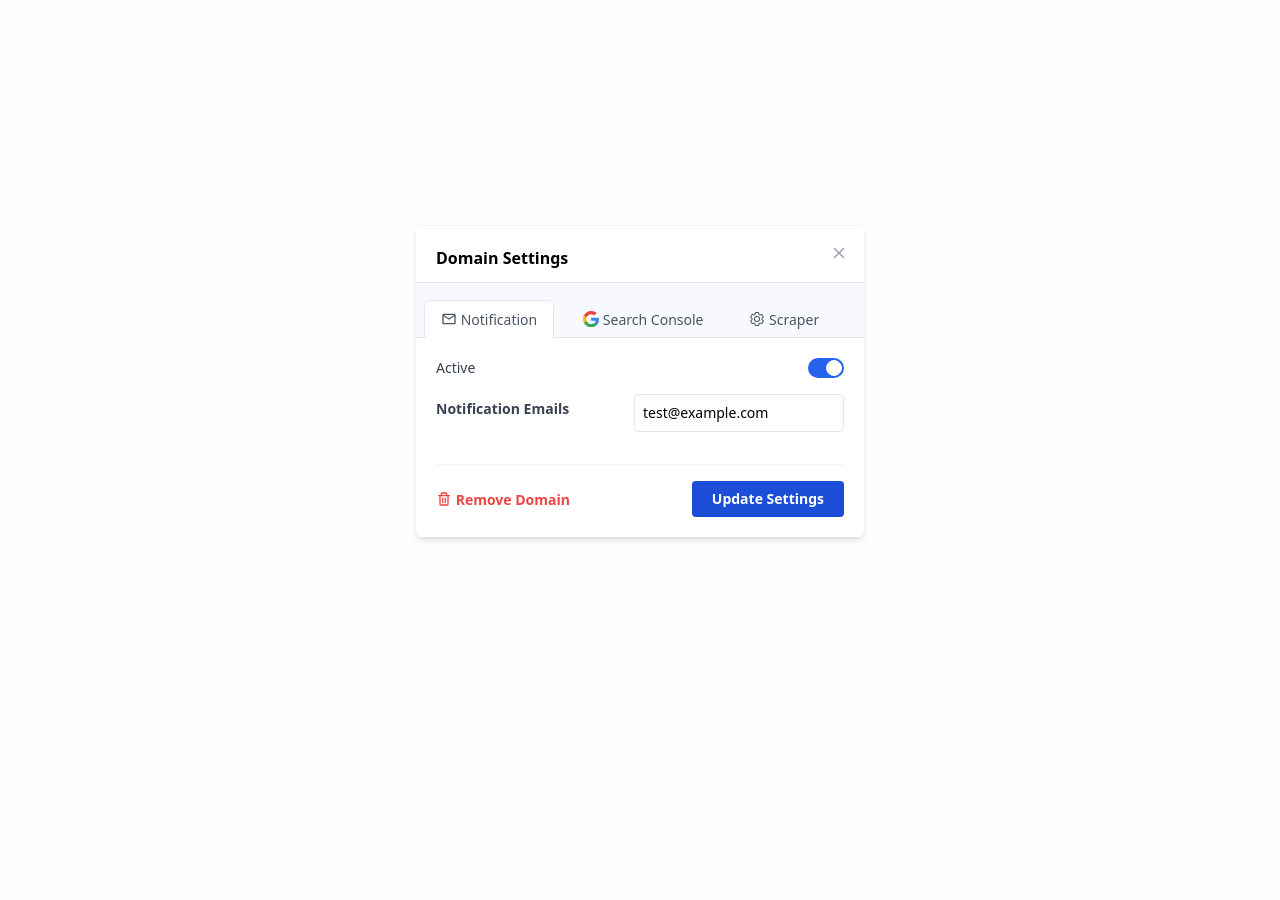
Test: DomainSettings Component › requires an API key when selecting a scraper override without a stored key
Click the list item "Scraper". click: (784, 320)
box: [750,310,819,329]
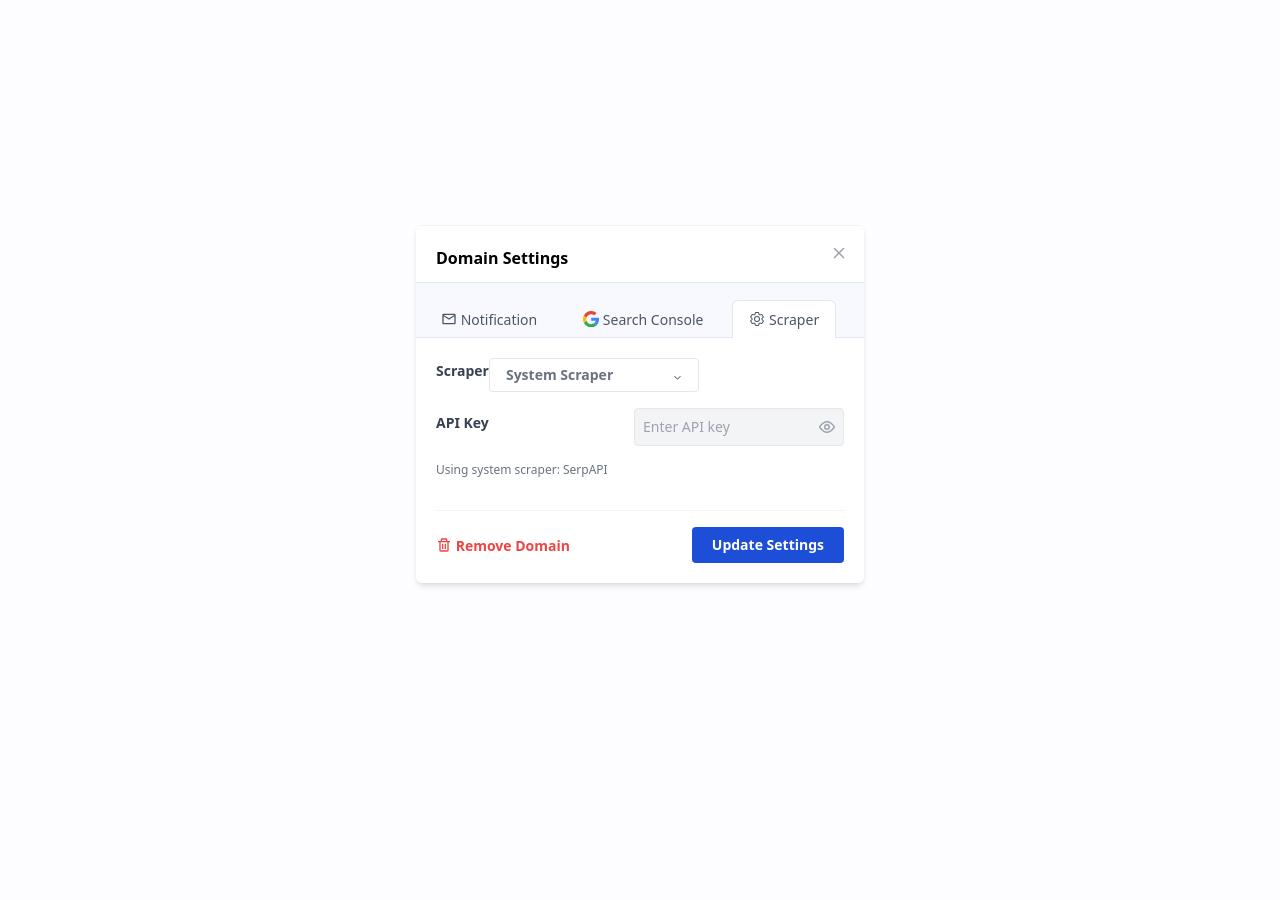
Click the text "System Scraper". click: (560, 375)
box: [506,365,613,384]
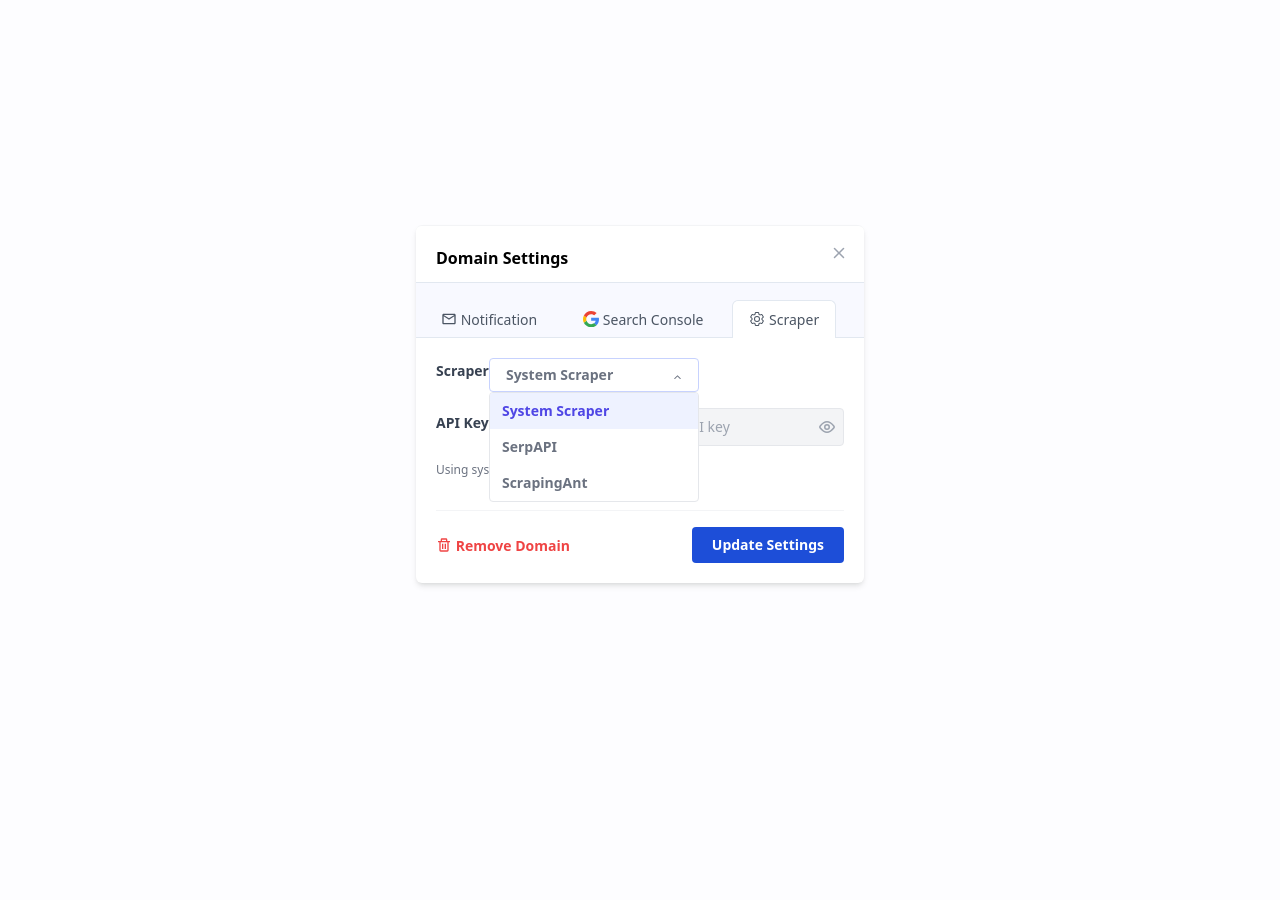
Click the list item "SerpAPI". click: (529, 447)
box: [502,437,557,456]
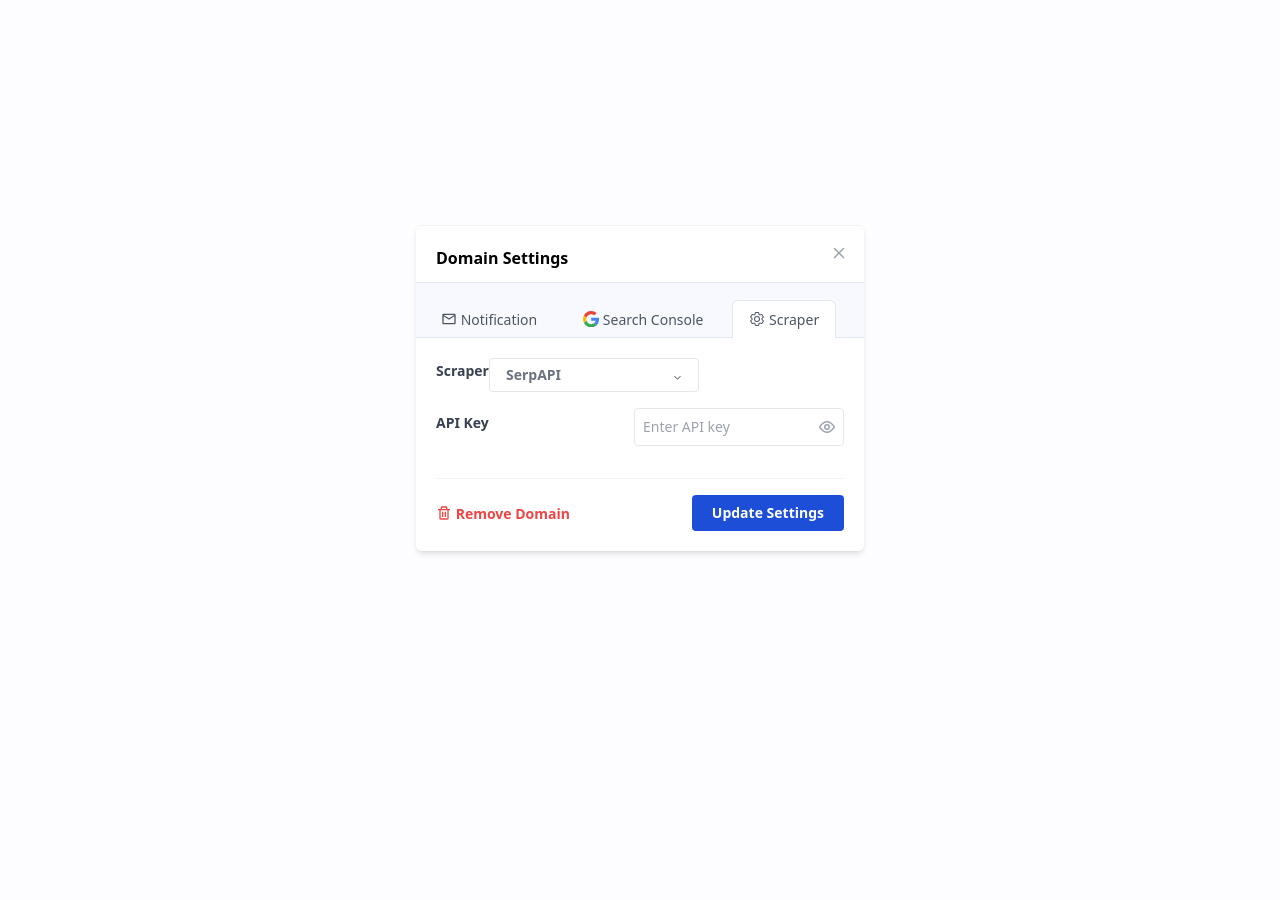
Click the button "Update Settings". click: (768, 513)
box: [692,495,844,531]
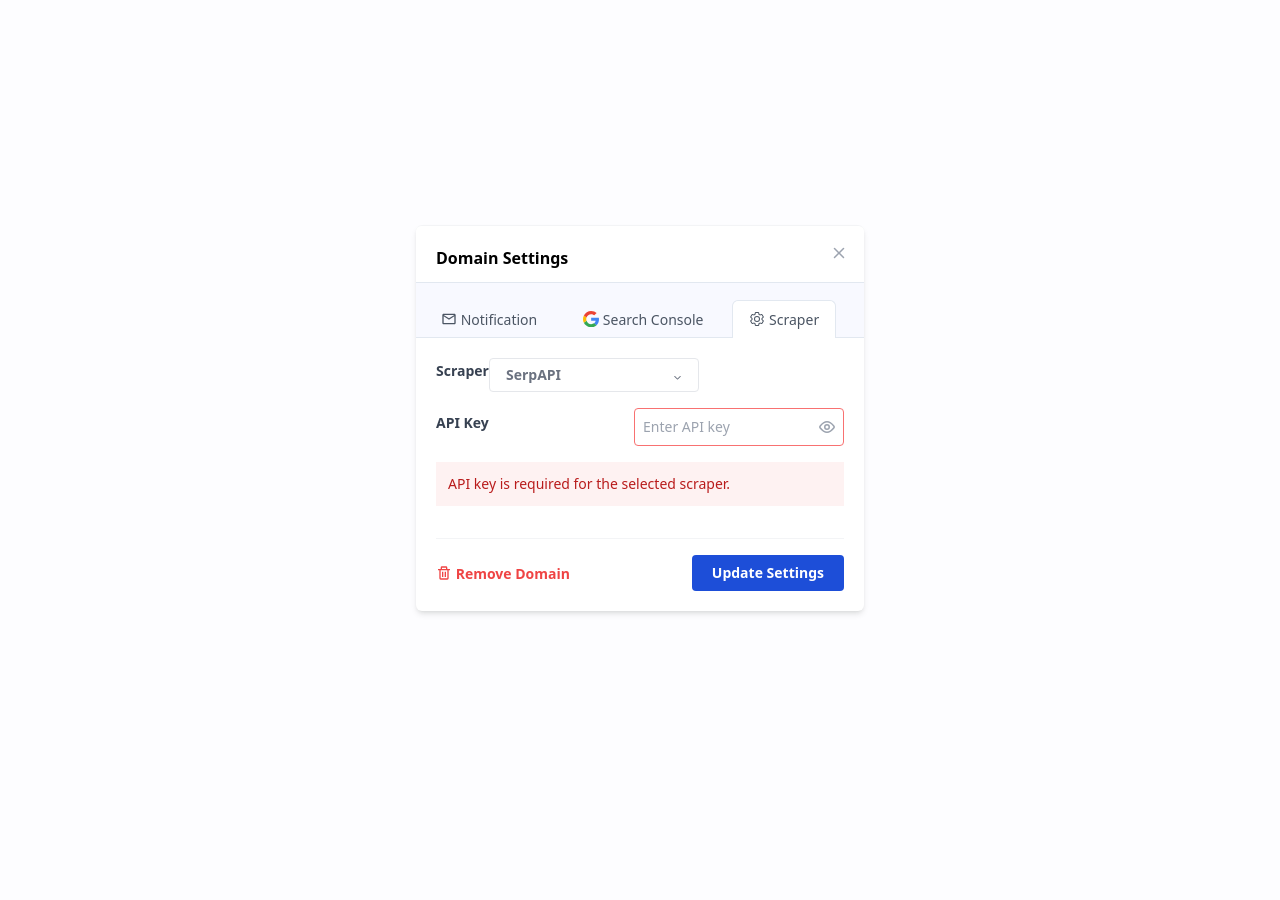
Expected: the text "API key is required for the selected scraper." is shown, [436,462,844,506]
